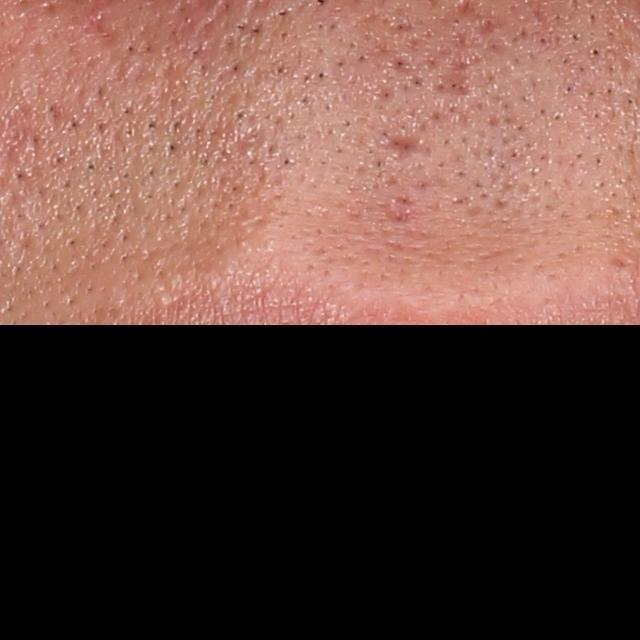atrophic_scar: (431, 69, 484, 105), (375, 130, 421, 162)
